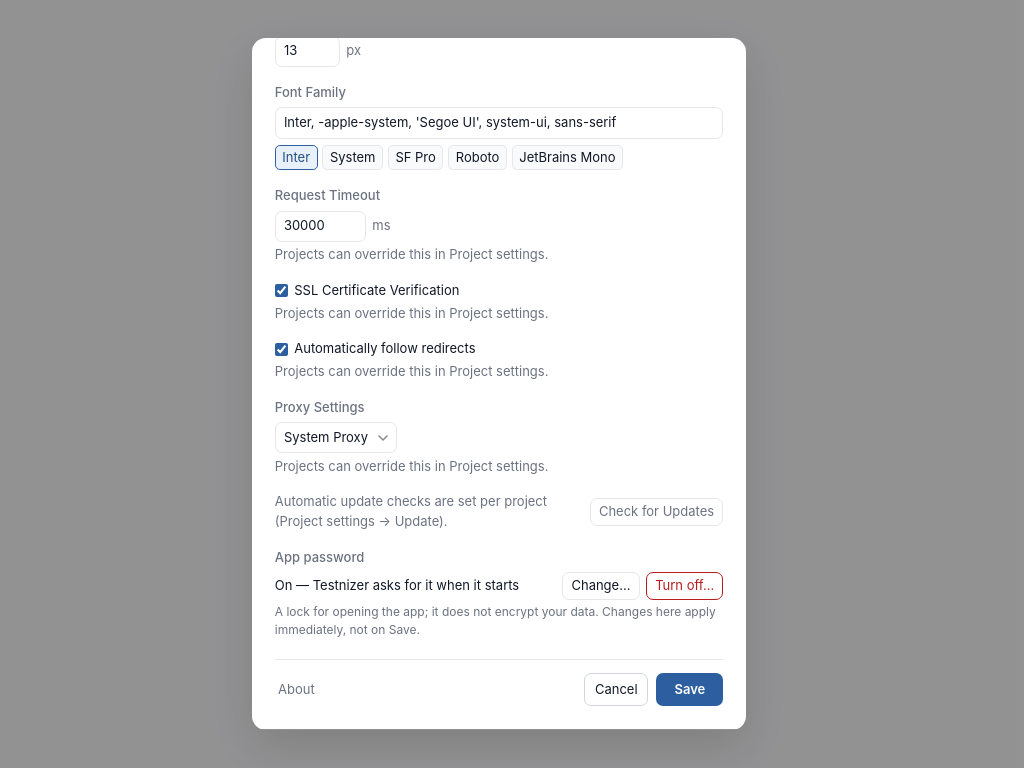
Scenario: Settings → App password → Change › uses the shared change form and the store action
(page scrolled)
Step 1. Click the button with test id "settings-app-password-change" → coordinates (601, 586), box x1=562 y1=572 x2=640 y2=600
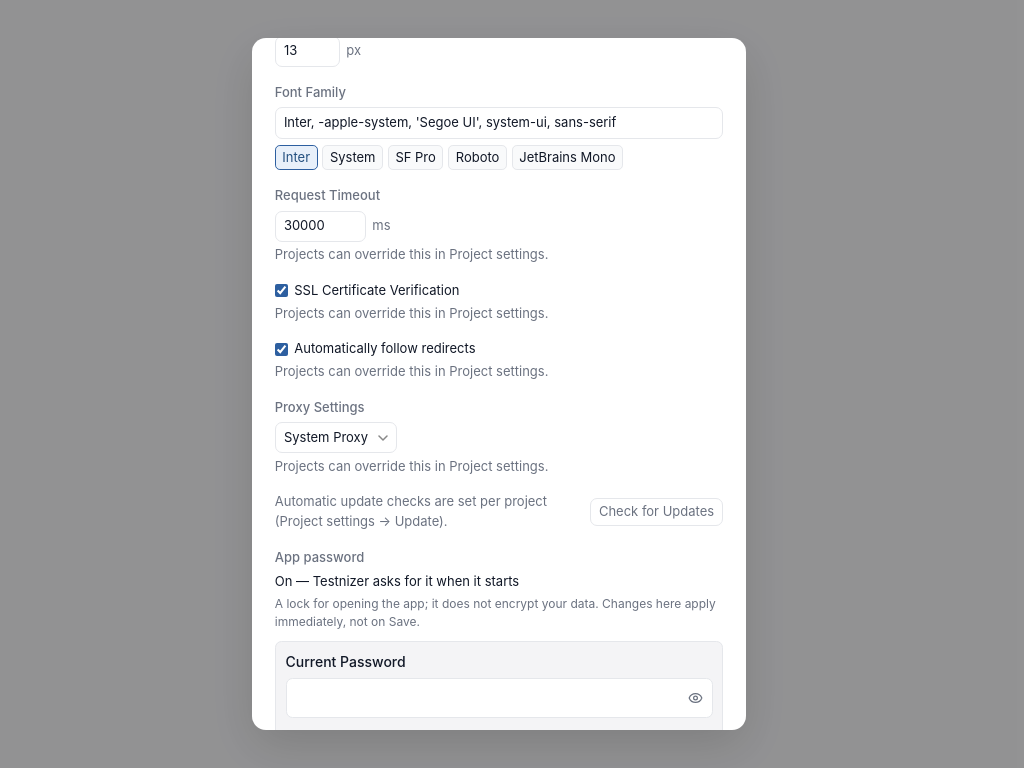
Step 2. Type "Secret123" into the password field with test id "password-change-current" → coordinates (499, 698), box x1=286 y1=678 x2=712 y2=718
(page scrolled)
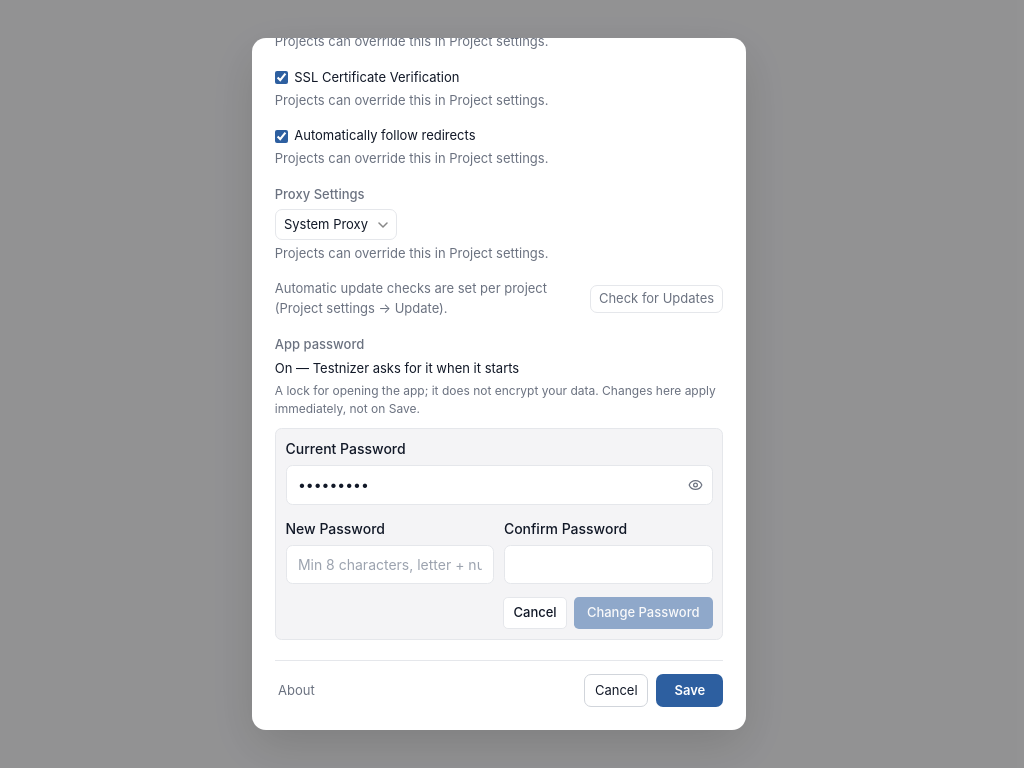
Step 3. Type "Newer4567" into the password field with test id "password-change-new" → coordinates (390, 564), box x1=286 y1=544 x2=494 y2=584
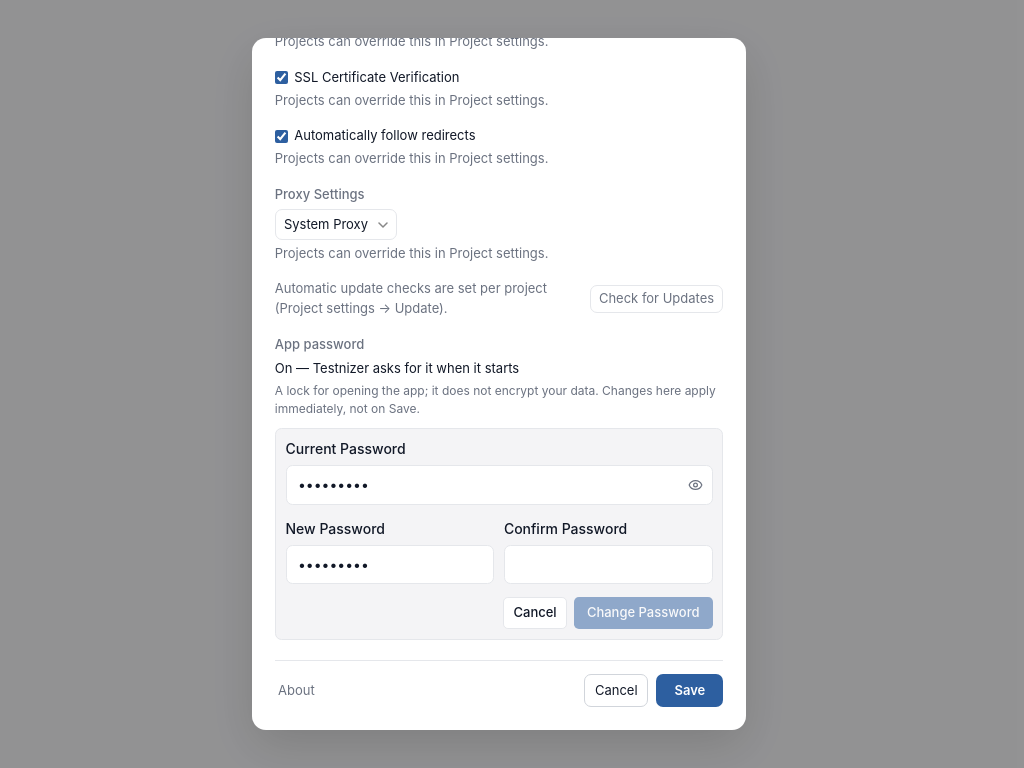
Step 4. Type "Newer4567" into the password field with test id "password-change-confirm" → coordinates (608, 564), box x1=504 y1=544 x2=712 y2=584
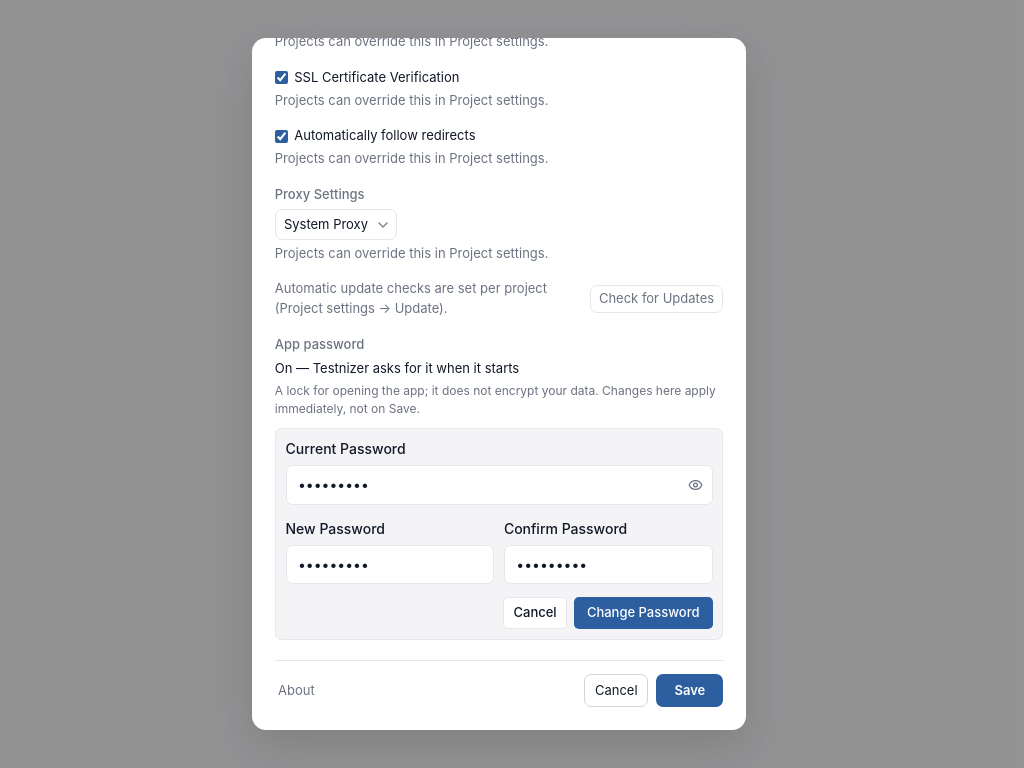
Step 5. Click the button with test id "password-change-submit" → coordinates (643, 613), box x1=574 y1=597 x2=712 y2=629
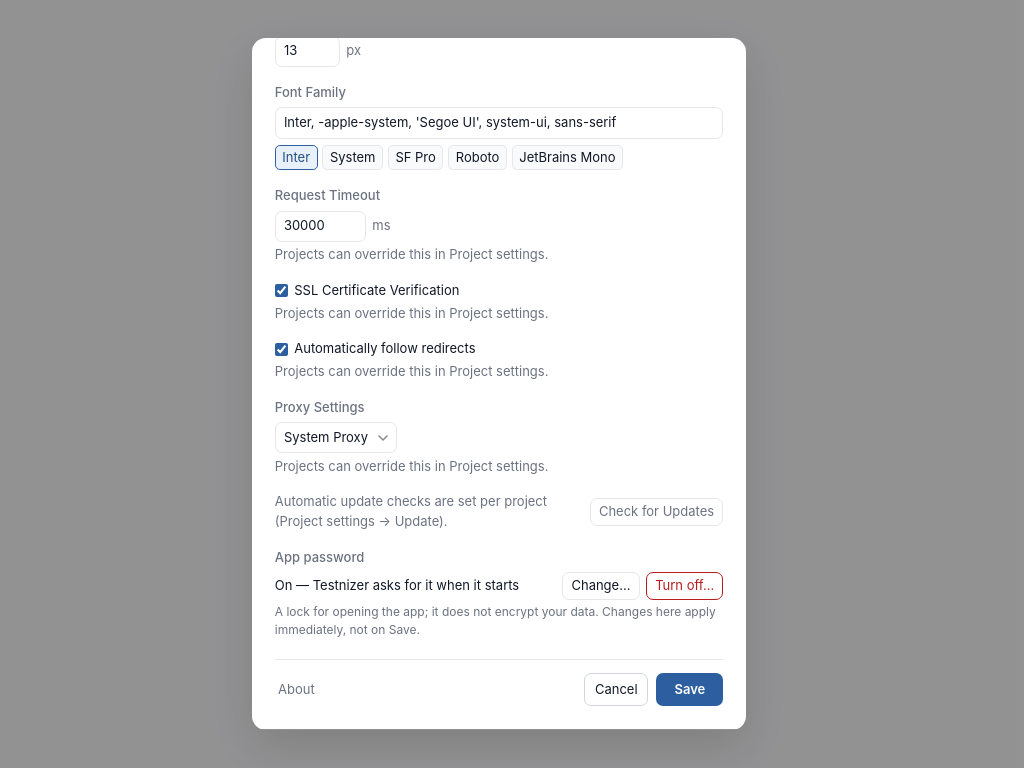
Check: the form with test id "password-change-form" is gone
